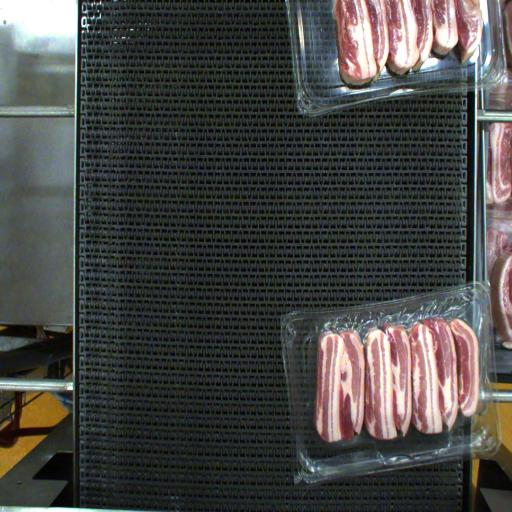unsealed: (310, 289, 480, 383)
